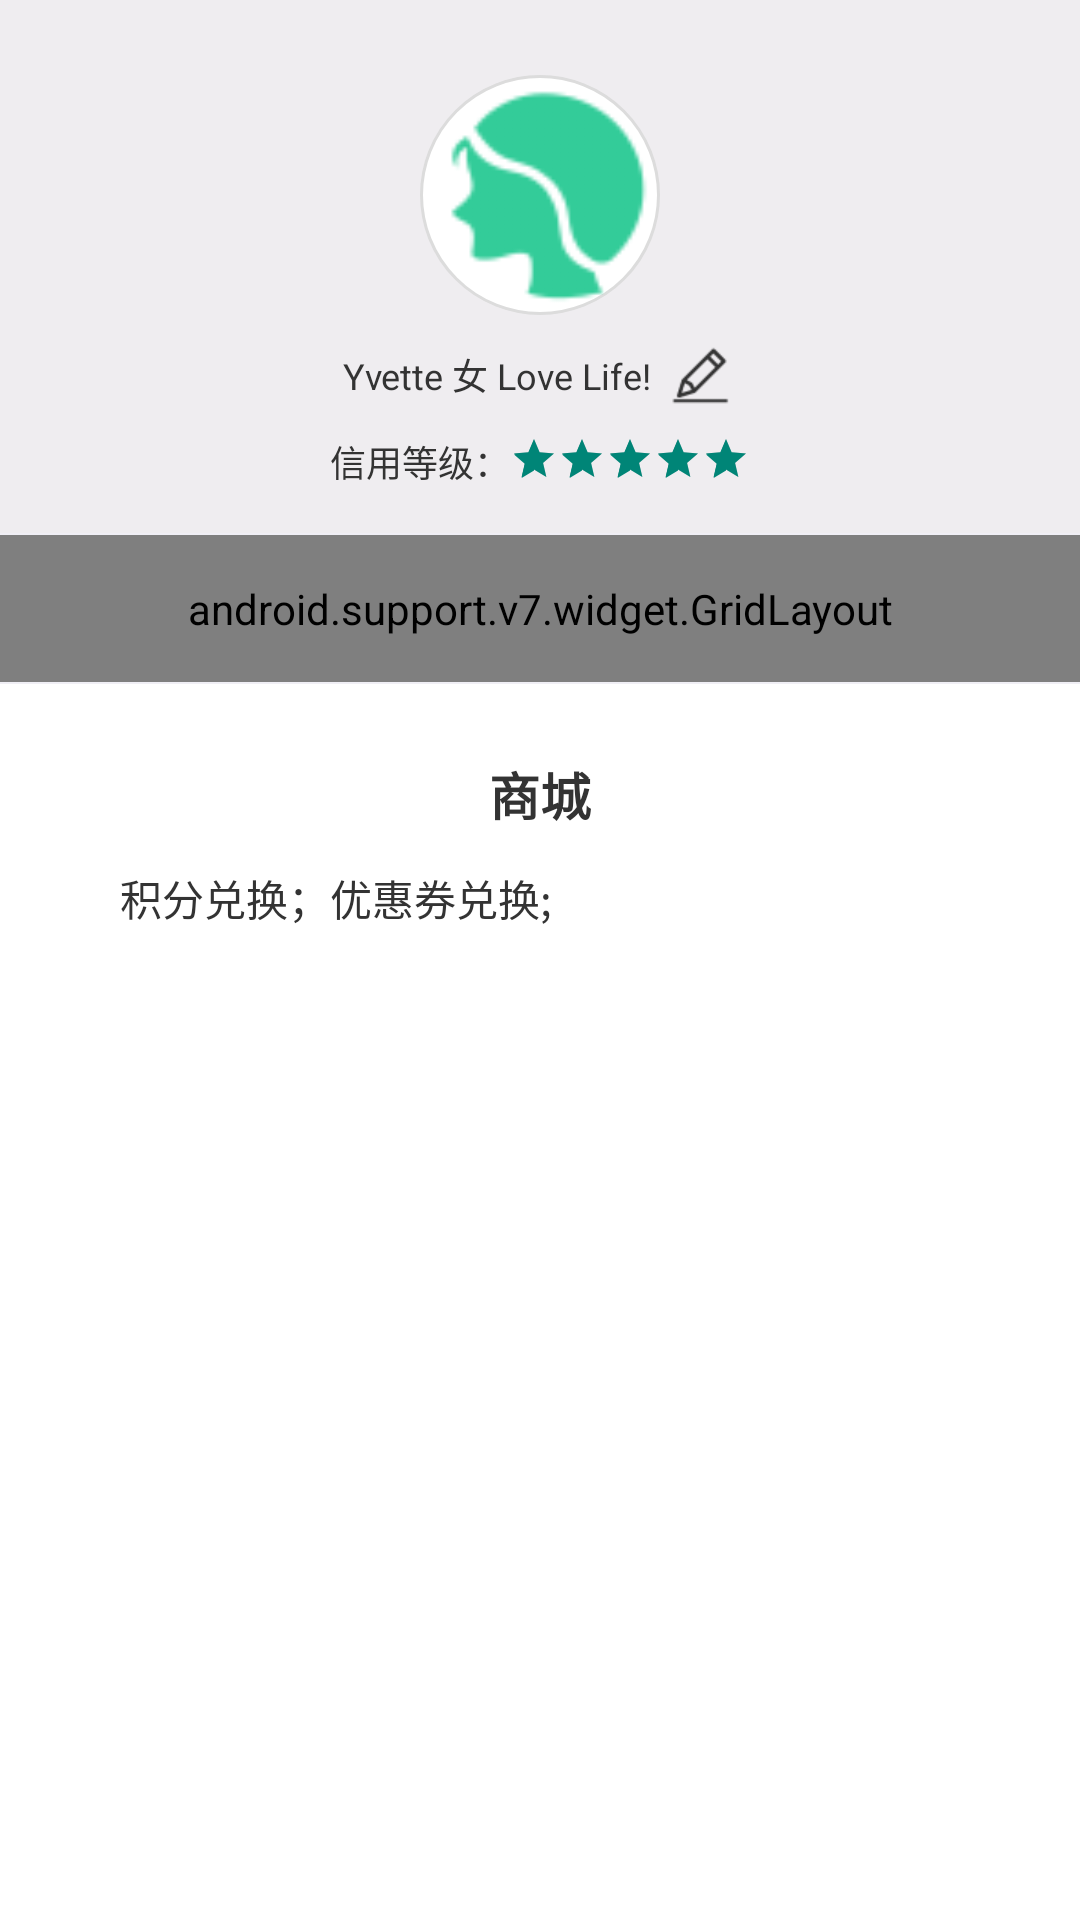

Icon bounding boxes for this 1080×1920 phone screenshot, format (x1, y1, x2, y2):
portrait: (451, 92, 645, 299)
